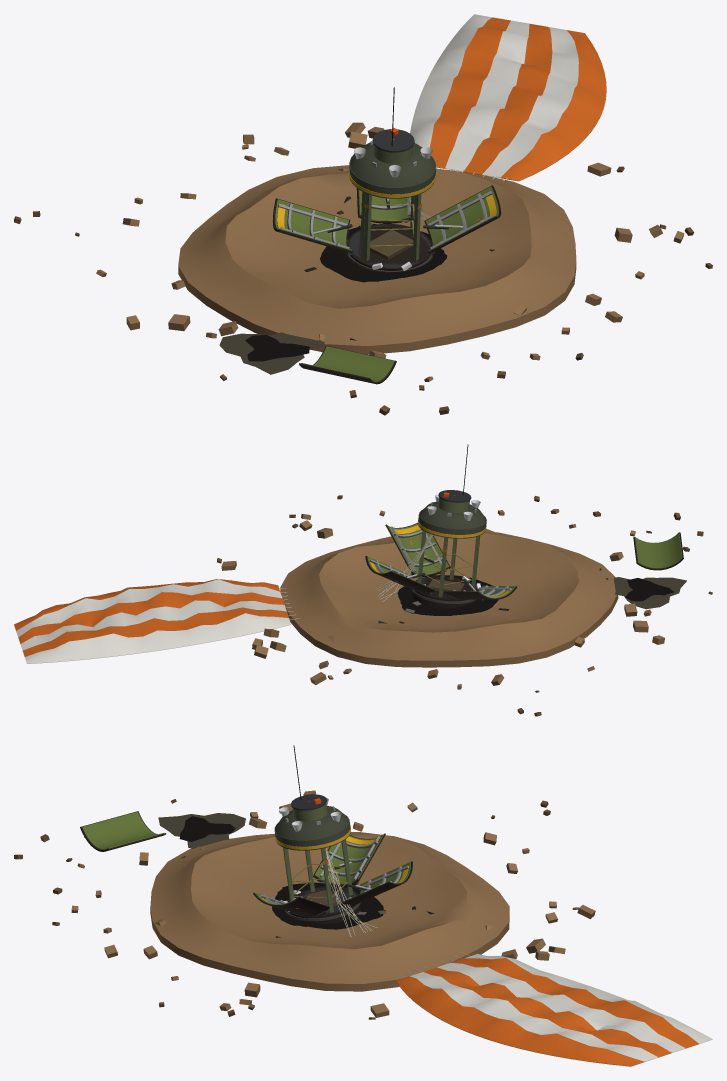
Rendered from drop-pod.glb.
The picture shows the model from 3 angles, top to bottom: view 1: azimuth 30°, elevation 25°; view 2: azimuth 150°, elevation 25°; view 3: azimuth 270°, elevation 25°; orthographic projection. The views are drawn at different scales.
Visible parts, largest first — view 1: C0_0_lod0, C0_-1_lod0, C-1_-1_lod0, C-1_0_lod0; view 2: C0_0_lod0, C0_-1_lod0, C-1_-1_lod0, C-1_0_lod0; view 3: C0_0_lod0, C0_-1_lod0, C-1_-1_lod0, C-1_0_lod0.
Boxes of the visible parts, x1,y1,x2,y2 form: C0_0_lod0: (178,14,624,374); C0_-1_lod0: (346,128,712,360); C-1_-1_lod0: (126,87,505,415); C-1_0_lod0: (14,140,373,289); C0_0_lod0: (14,495,686,684); C0_-1_lod0: (289,490,559,608); C-1_-1_lod0: (452,444,712,644); C-1_0_lod0: (343,512,594,716); C0_0_lod0: (150,801,712,1066); C0_-1_lod0: (52,794,360,1016); C-1_-1_lod0: (14,745,328,897); C-1_0_lod0: (309,800,556,908).
Size of what is drawn, in the model's own units: 23.33 by 7.09 by 25.28.
